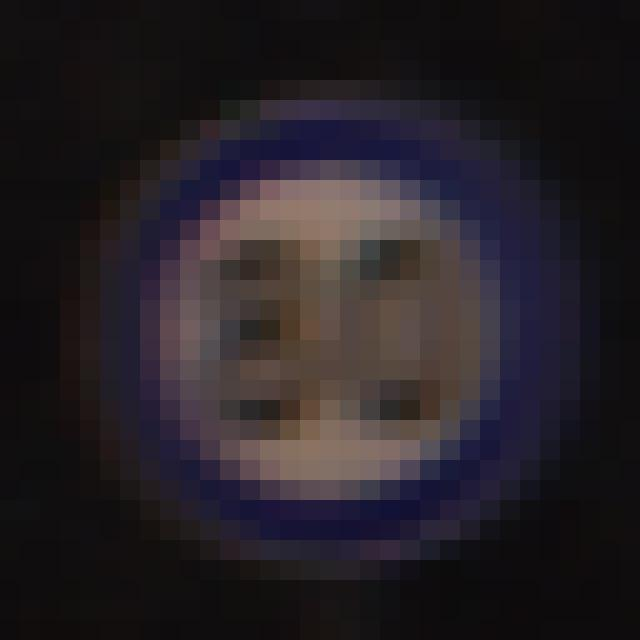SPEED-LIMIT-80: (96, 131, 552, 559)
